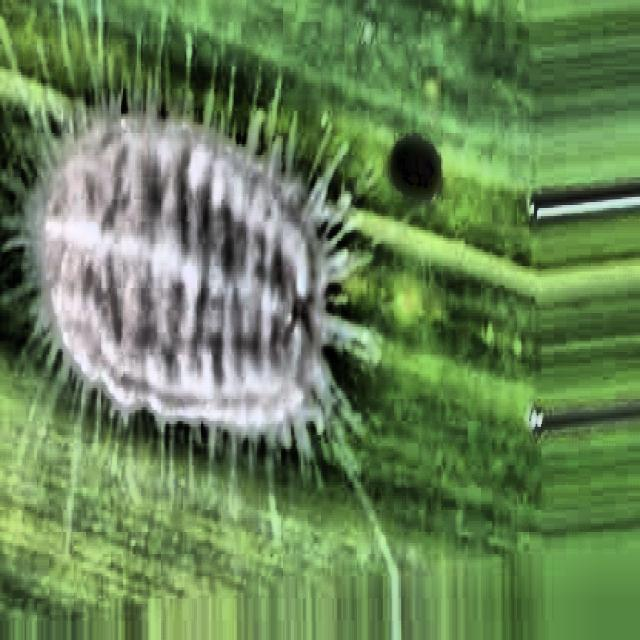Mealy-bug: (1, 44, 390, 491)
